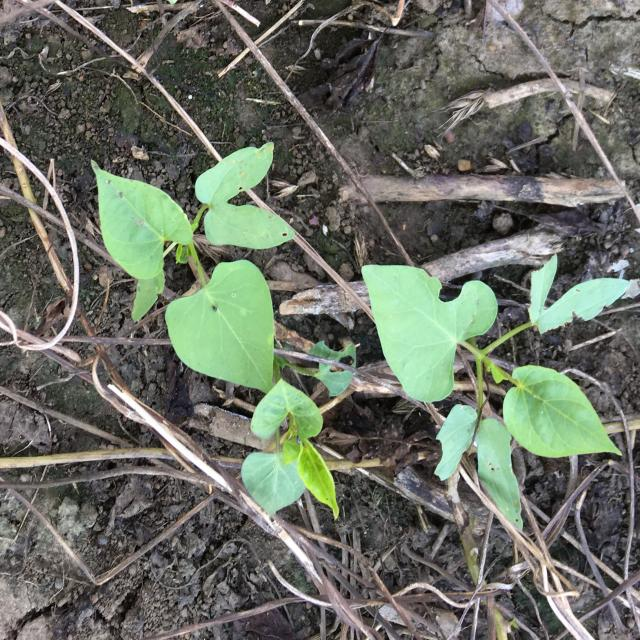MorningGlory: (91, 142, 357, 521), (361, 253, 632, 533)
